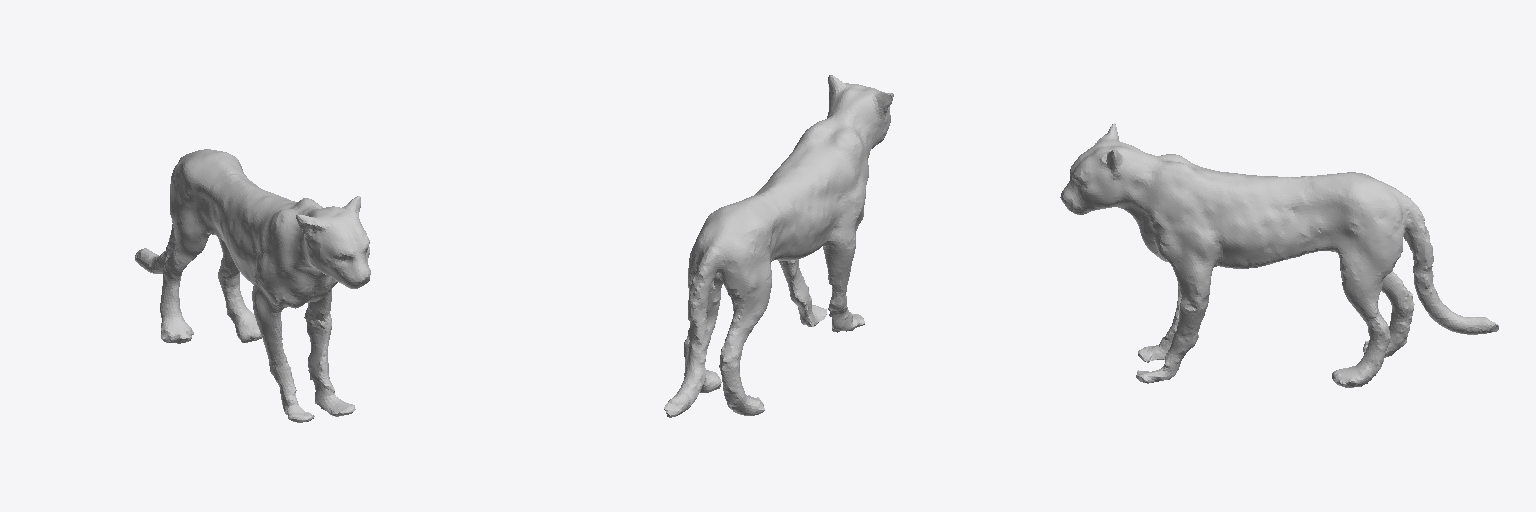
File: Jaguar.obj
The picture shows the model from 3 angles: view 1: azimuth 30°, elevation 25°; view 2: azimuth 150°, elevation 25°; view 3: azimuth 270°, elevation 25°; orthographic projection.
Visible parts, largest first — view 1: jaguar_Jaguar; view 2: jaguar_Jaguar; view 3: jaguar_Jaguar.
Part boxes in pixels (x1,y1,x2,y2): jaguar_Jaguar: (135, 149, 370, 422); jaguar_Jaguar: (664, 75, 893, 417); jaguar_Jaguar: (1060, 123, 1498, 387).
Size of the model in its own units: 504 by 1221 by 2108.